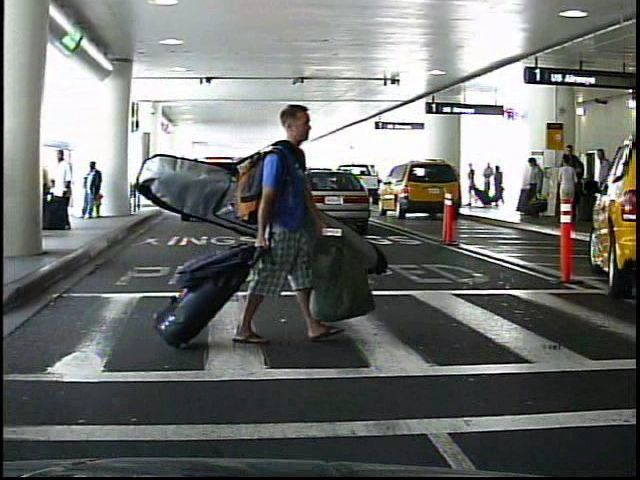person: (250, 94, 346, 363), (44, 146, 76, 233), (589, 146, 614, 228), (78, 158, 105, 225), (559, 143, 581, 222), (555, 155, 579, 225), (523, 157, 546, 222), (465, 160, 479, 208), (483, 161, 495, 209), (492, 162, 502, 206)
